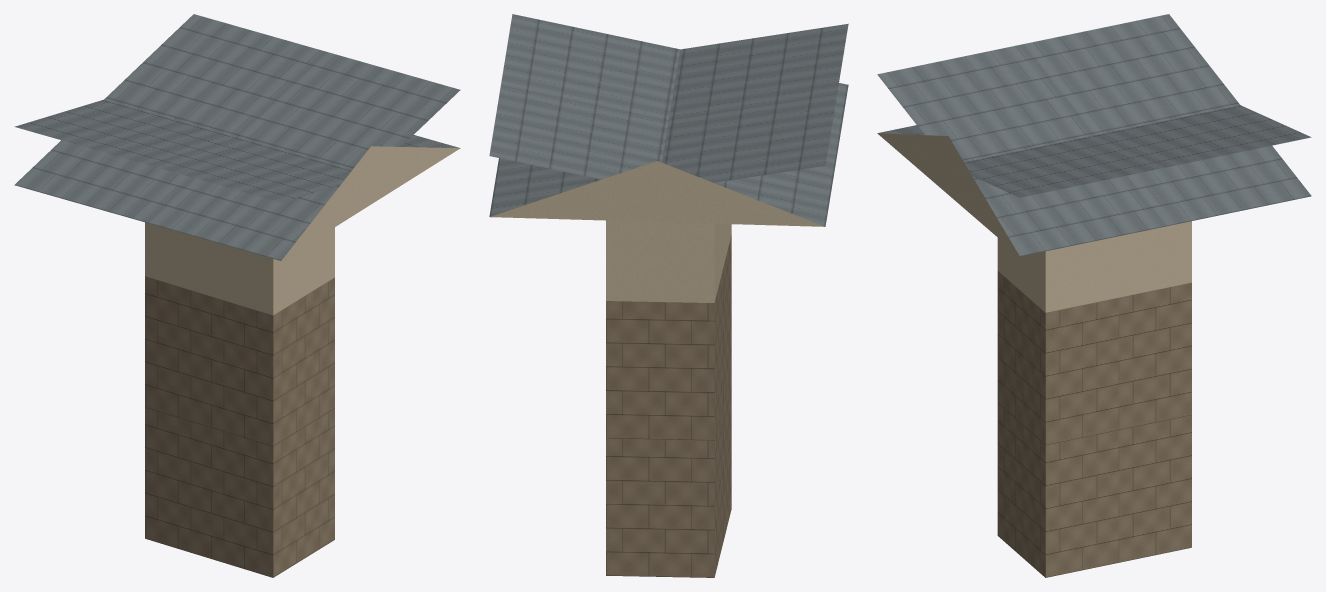
The model's file is bld_c2_-4_558.gltf.
3 renders of one model, left to right at view 1: azimuth 30°, elevation 25°; view 2: azimuth 150°, elevation 25°; view 3: azimuth 270°, elevation 25°, orthographic. The views are drawn at different scales.
Visible parts, largest first — view 1: bld_c2_-4_558; view 2: bld_c2_-4_558; view 3: bld_c2_-4_558.
Boxes of the visible parts, <box> form: bld_c2_-4_558: <box>14,14,460,577</box>; bld_c2_-4_558: <box>489,14,848,577</box>; bld_c2_-4_558: <box>877,14,1311,577</box>.
Bounding box in the file's own units: 6.69 × 7.4 × 6.69.
4 materials, 4 textured.
